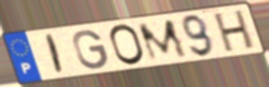9: (182, 13, 217, 58)
G: (71, 29, 110, 71)
H: (212, 8, 256, 54)
I: (45, 33, 66, 77)
M: (135, 17, 191, 63)
O: (108, 23, 147, 67)
